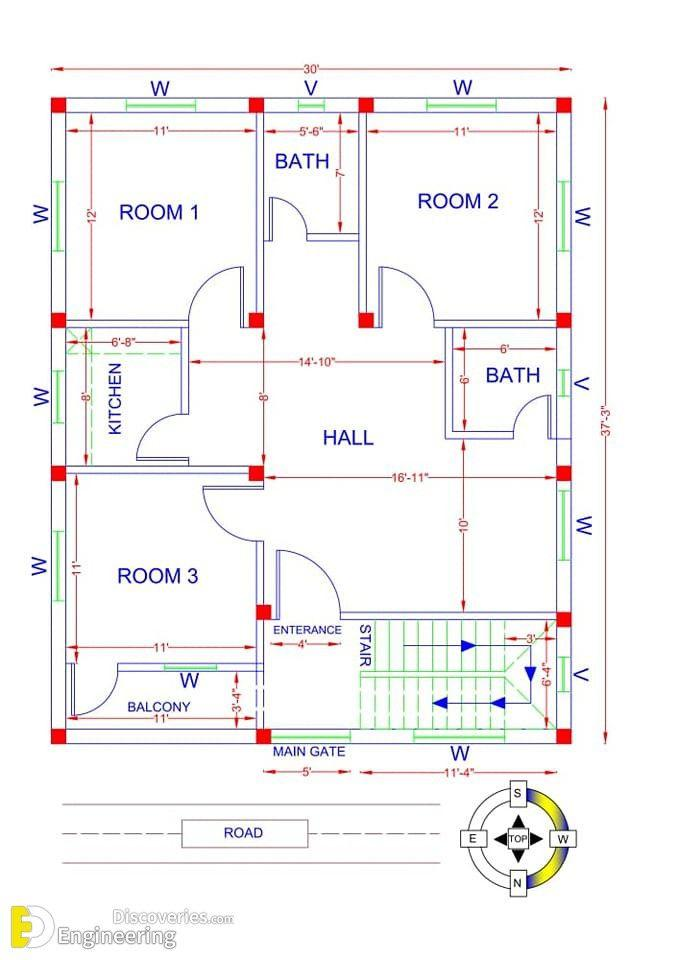Blueprint: (43, 87, 582, 753)
wall: (61, 726, 259, 747), (337, 609, 558, 623), (48, 597, 68, 729), (63, 463, 251, 477), (255, 111, 266, 316), (358, 111, 368, 315), (63, 316, 193, 330), (430, 318, 560, 331), (554, 109, 575, 187), (345, 726, 418, 748), (554, 393, 574, 469), (48, 246, 69, 317), (49, 110, 69, 184), (554, 248, 575, 317), (442, 324, 454, 443), (64, 95, 130, 116), (494, 94, 560, 115), (501, 725, 559, 747), (553, 557, 575, 615), (372, 94, 430, 116), (179, 324, 192, 418), (194, 95, 254, 115), (48, 479, 69, 534), (552, 324, 575, 373), (448, 428, 518, 442), (552, 689, 575, 731), (48, 419, 68, 467), (323, 94, 362, 116), (114, 660, 167, 676), (214, 660, 267, 676), (552, 624, 575, 660), (49, 326, 67, 372), (253, 537, 265, 606), (263, 94, 300, 116), (254, 617, 266, 675), (305, 232, 362, 242)
